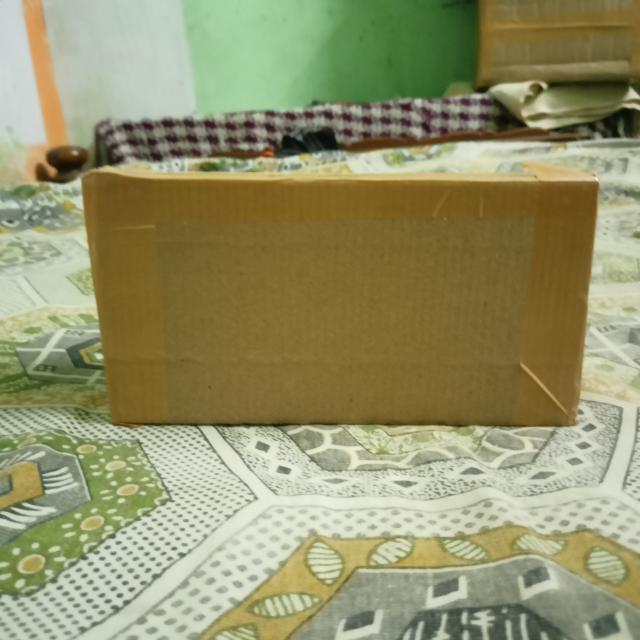box: (84, 179, 597, 427)
